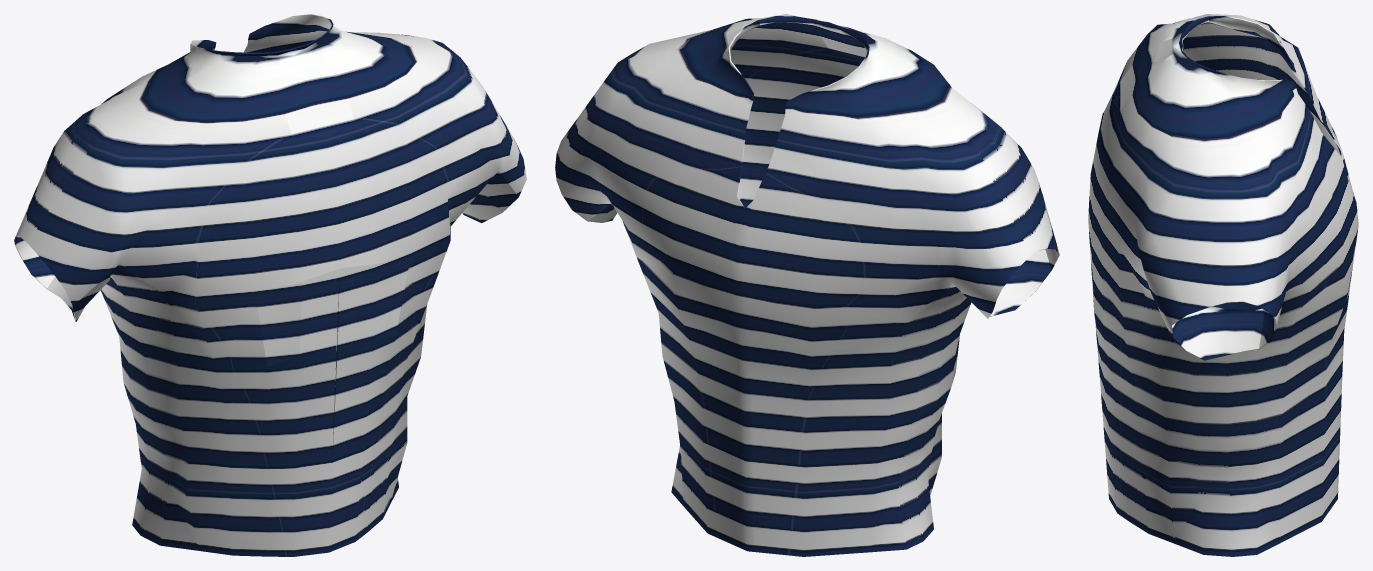
Rendered from shirt.FBX.
3 views of the same model, side by side, from view 1: azimuth 30°, elevation 25°; view 2: azimuth 150°, elevation 25°; view 3: azimuth 270°, elevation 25° (orthographic). The views are drawn at different scales.
Parts seen in each view (by area): view 1: Shirt; view 2: Shirt; view 3: Shirt.
Boxes of the visible parts, x1,y1,x2,y2 form: Shirt: (14,14,526,556); Shirt: (555,14,1059,556); Shirt: (1088,14,1358,556).
Bounding box in the file's own units: 50.96 × 48.66 × 26.04.
